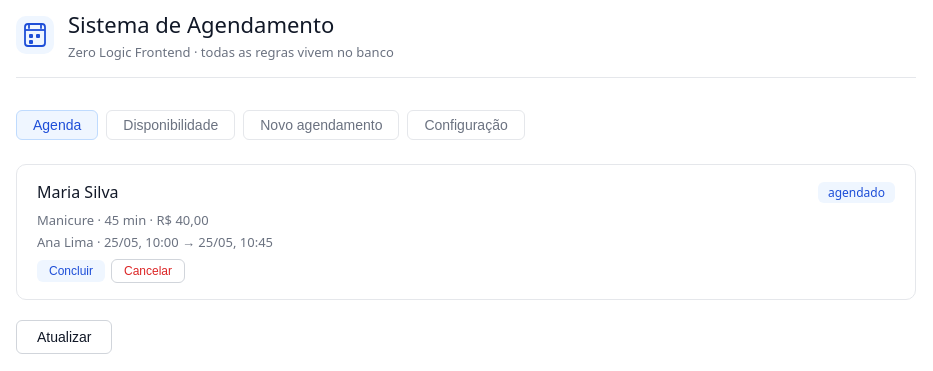
Test: Agenda › exibe mensagem de sucesso após concluir
Click the button "Concluir" at point(71, 271), box left=37, top=260, right=105, bottom=282
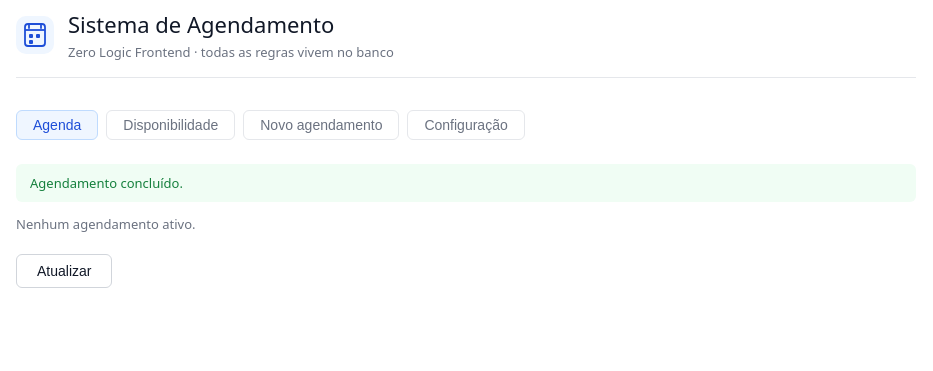
Result: the text "Agendamento concluído." is shown at left=16, top=164, right=916, bottom=202
